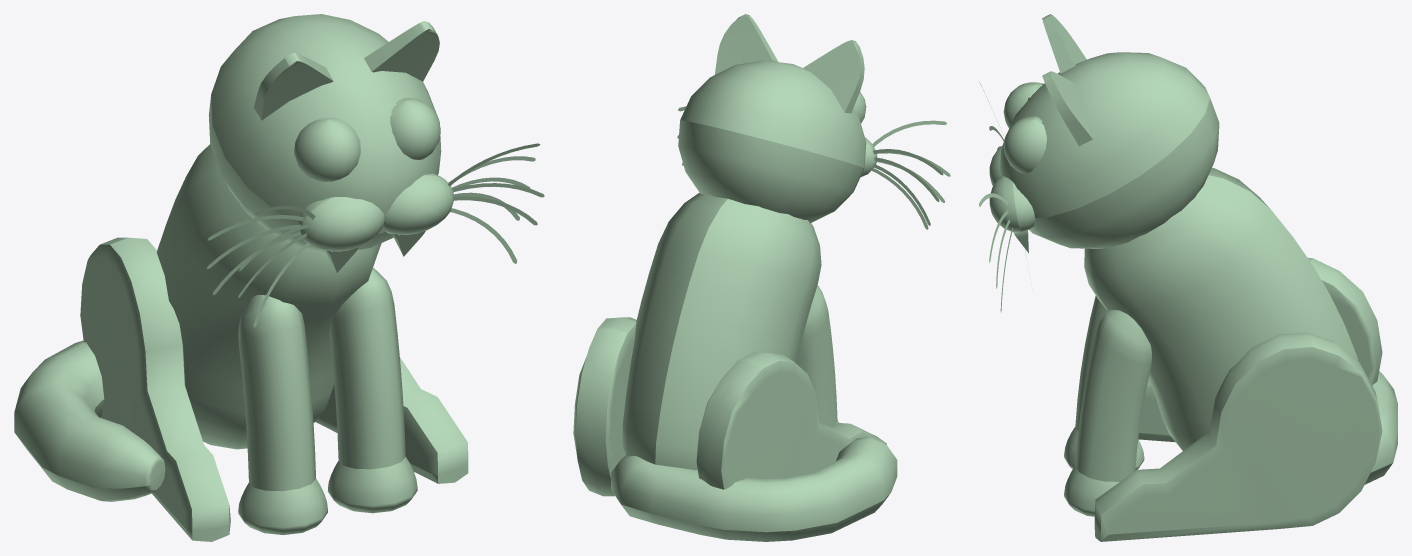
File: NPC_Tabby Cat.fbx
3 renders of one model, left to right at view 1: azimuth 30°, elevation 25°; view 2: azimuth 150°, elevation 25°; view 3: azimuth 270°, elevation 25°, orthographic. The views are drawn at different scales.
Visible parts, largest first — view 1: NPC_Farm Cat; view 2: NPC_Farm Cat; view 3: NPC_Farm Cat.
Part boxes in pixels (left/top/right/bottom): NPC_Farm Cat: left=14, top=14, right=544, bottom=541; NPC_Farm Cat: left=573, top=14, right=950, bottom=541; NPC_Farm Cat: left=979, top=14, right=1397, bottom=541.
Size of the model in its own units: 23.59 by 29.89 by 25.58.
